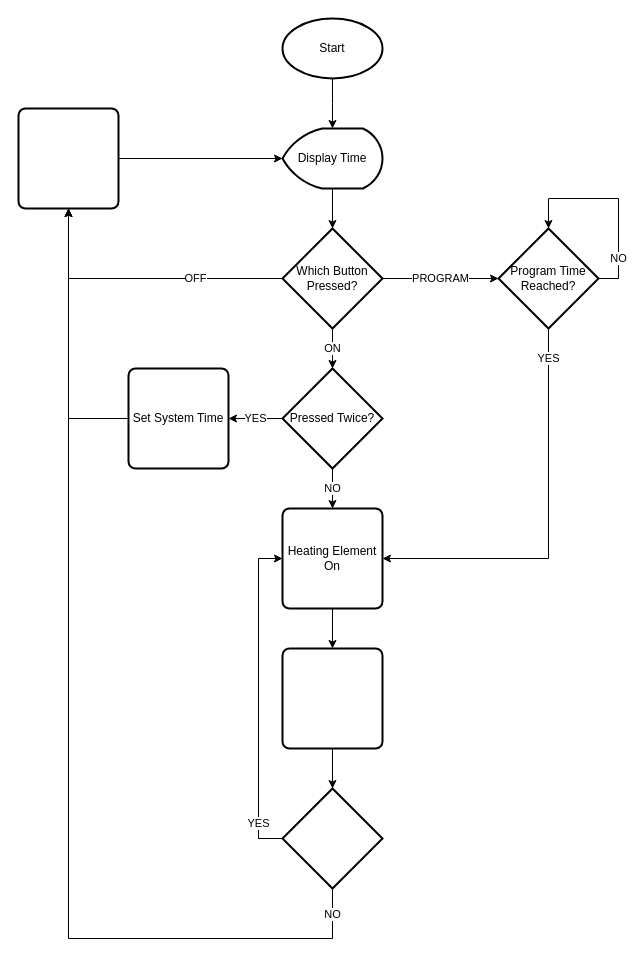
This 644x964 diagram has some shape labels left out. The shapes that lost their labels are listed below. From the top down, each one's centre as x and y in pixels, then its label:
At (x=68, y=158): "End Process".
At (x=332, y=698): "Brew".
At (x=332, y=838): "Water Remaining?".
